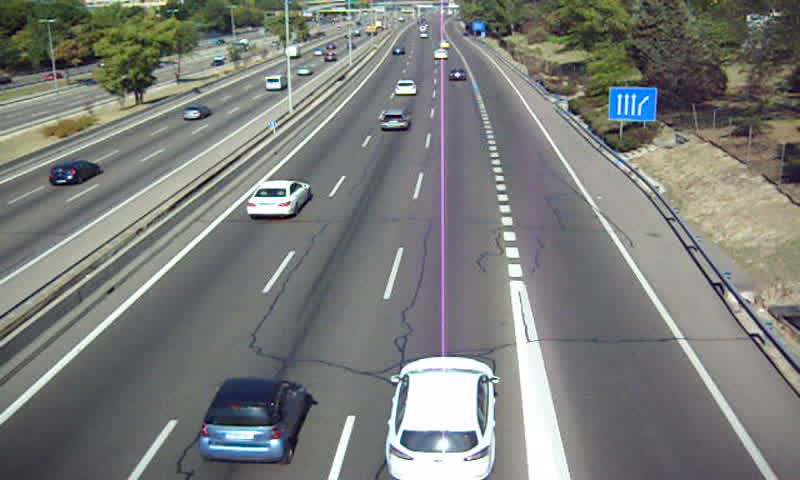car: (386, 357, 495, 480), (200, 378, 309, 466), (244, 180, 312, 218), (378, 110, 410, 130), (394, 79, 419, 97), (448, 68, 467, 81)
